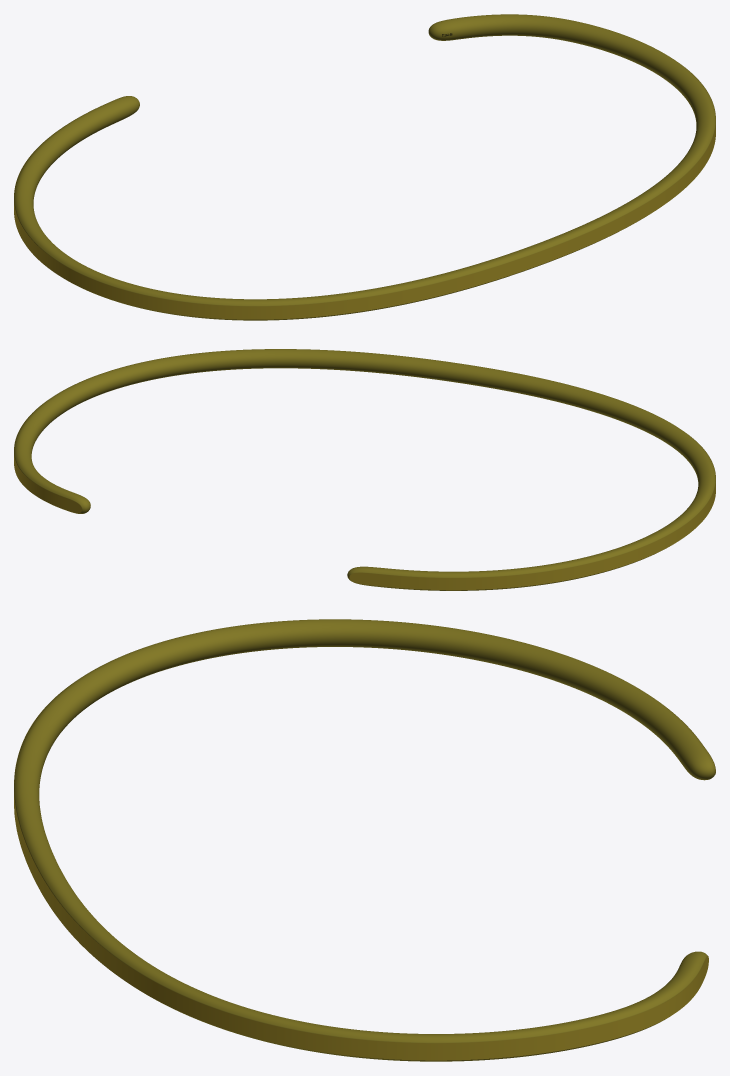
The model's file is light-gold24.glb.
3 renders of one model, top to bottom at view 1: azimuth 30°, elevation 25°; view 2: azimuth 150°, elevation 25°; view 3: azimuth 270°, elevation 25°, orthographic. The views are drawn at different scales.
Visible parts, largest first — view 1: lightbody.005, lightomote.005; view 2: lightbody.005, lightomote.005; view 3: lightbody.005, lightomote.005.
Part boxes in pixels (<box>): lightbody.005: <box>14,14,715,320</box>; lightomote.005: <box>14,67,715,319</box>; lightbody.005: <box>14,349,715,590</box>; lightomote.005: <box>14,406,715,590</box>; lightbody.005: <box>14,619,715,1061</box>; lightomote.005: <box>14,689,715,1060</box>.
Bounding box in the file's own units: 3.4 × 0.0938 × 2.39.
Materials: 2 (2 with a texture image).
